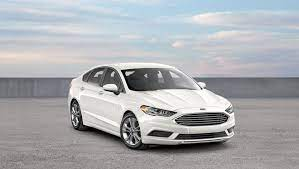Ford: (68, 58, 235, 149)
